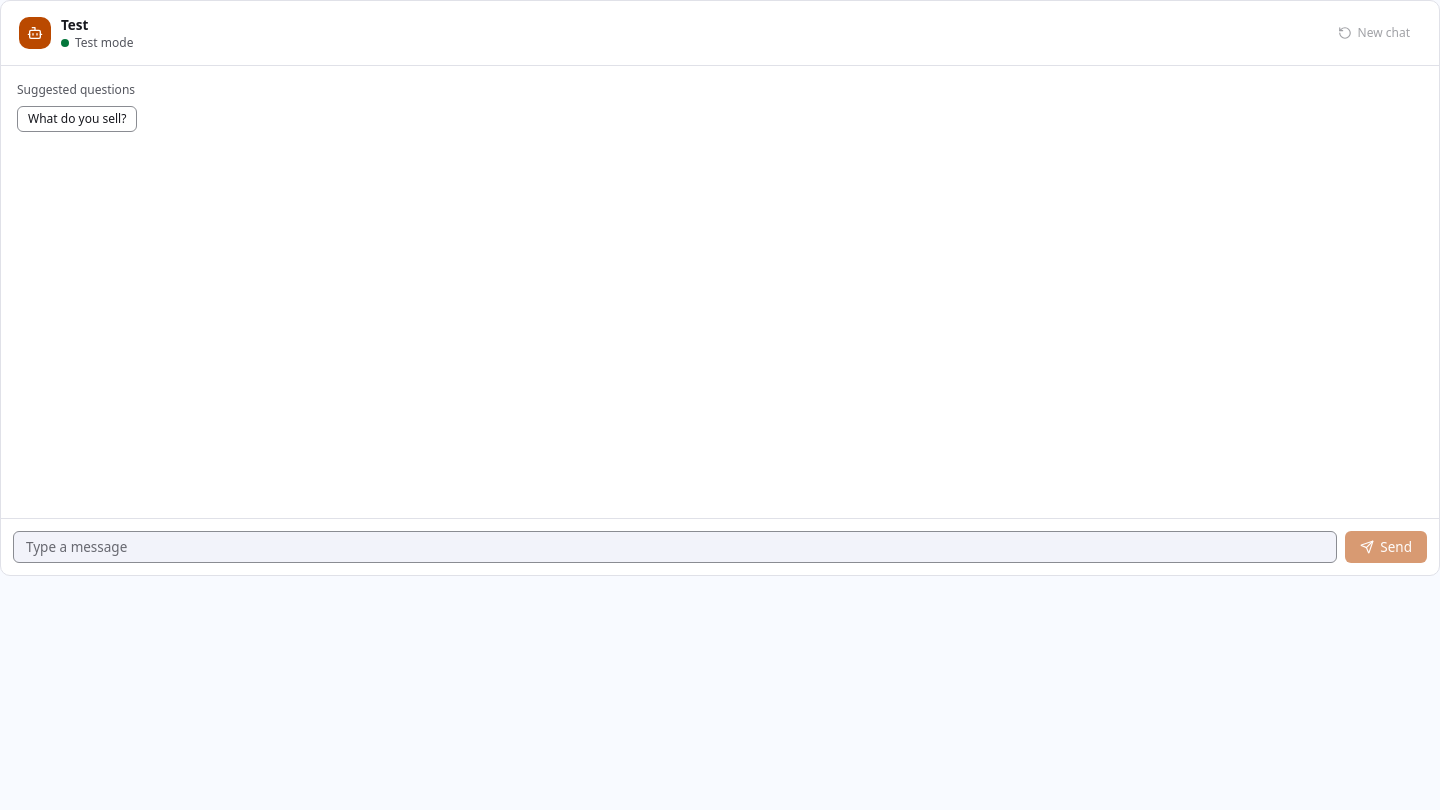
ChatPanel › renders model links safely: http(s) as links, javascript: as plain text
Click the button "What do you sell?".
click(77, 119)  # box left=17, top=106, right=137, bottom=132
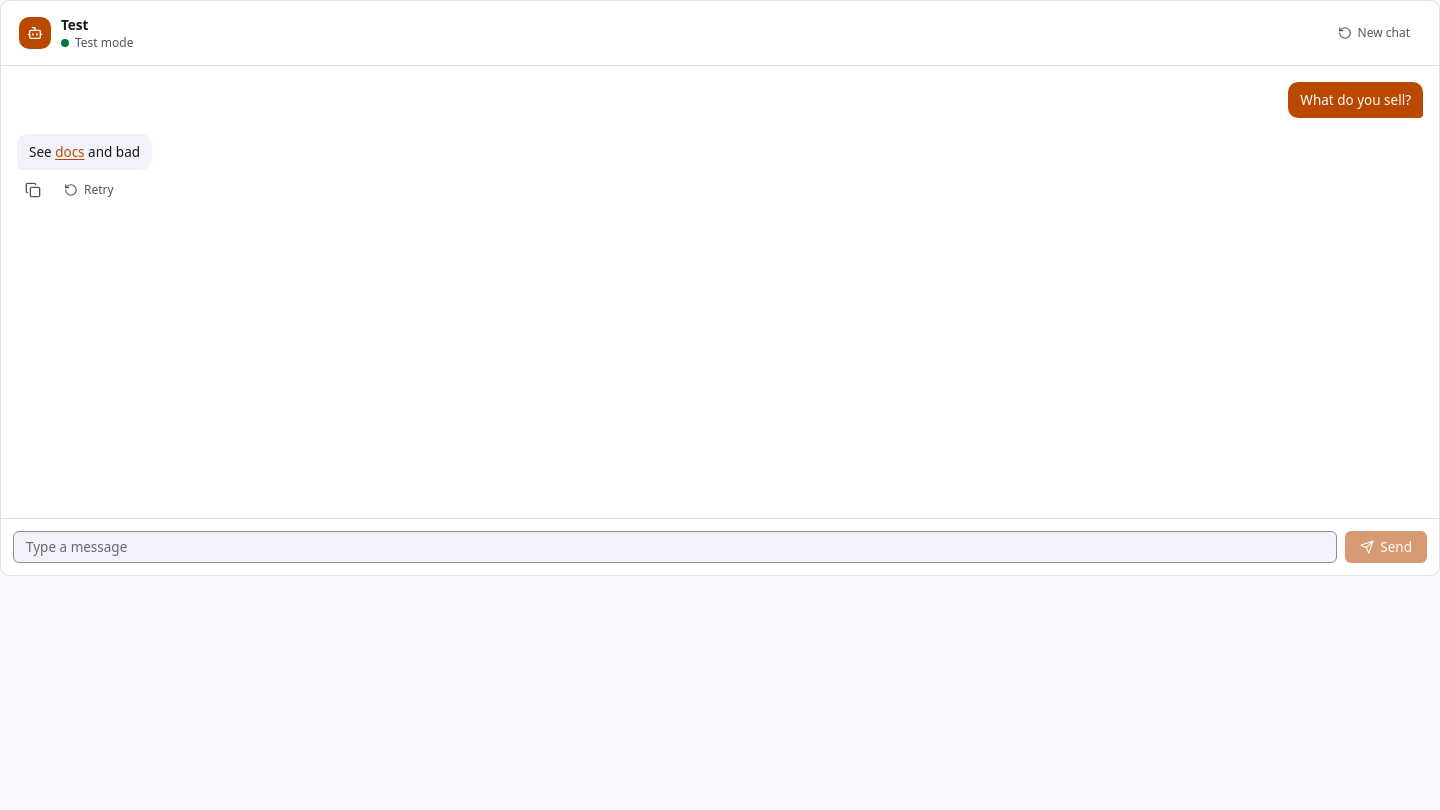
Expected: the number of links is 1, left=55, top=143, right=85, bottom=161
Expected: the element showing "What do you sell? See docs and bad Retry" is shown, left=17, top=82, right=1423, bottom=206
